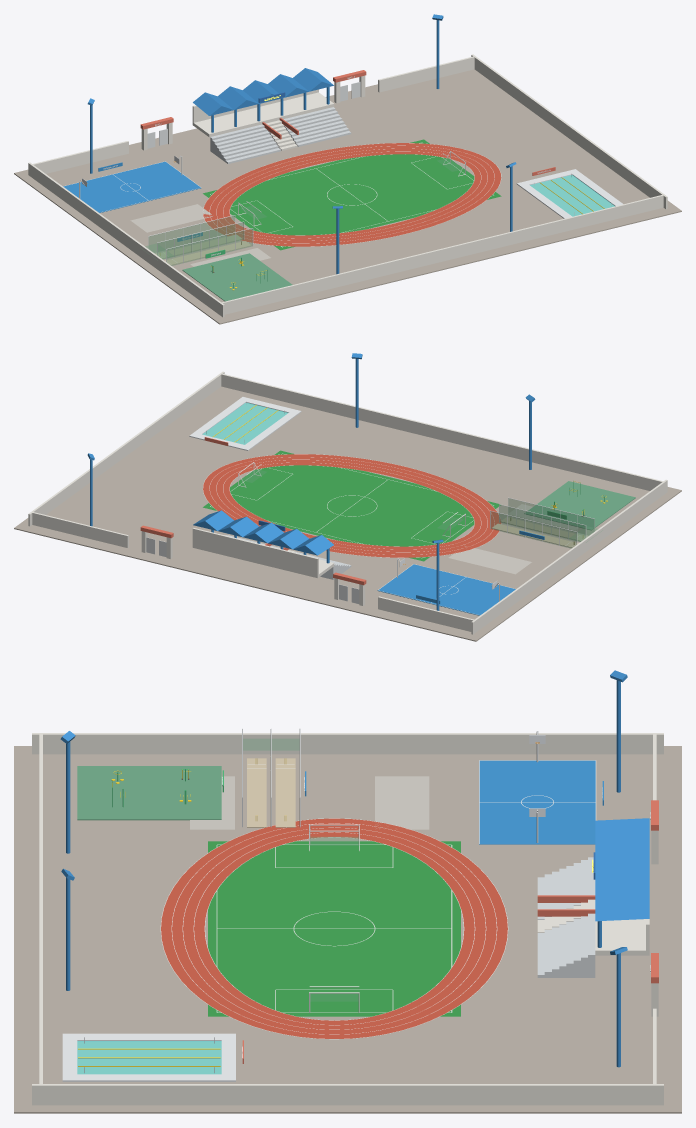
File: jawaharlal_stadium.glb
3 views of the same model, one above another, from view 1: azimuth 30°, elevation 25°; view 2: azimuth 150°, elevation 25°; view 3: azimuth 270°, elevation 25° (orthographic). The views are drawn at different scales.
Parts seen in each view (by area): view 1: Stadium_Base_Ground, Football_Pitch_Turf, Athletic_Running_Track, Perimeter_Wall_South, Basketball_Court_Floor, Gym_Concrete_Pad, Perimeter_Wall_West, Perimeter_Wall_East, Sawtooth_Canopy_Roof, Pavilion_Platform, Bleachers_Left, Pool_Water_Surface (+11 smaller); view 2: Stadium_Base_Ground, Football_Pitch_Turf, Athletic_Running_Track, Perimeter_Wall_South, Basketball_Court_Floor, Gym_Concrete_Pad, Perimeter_Wall_West, Perimeter_Wall_East, Sawtooth_Canopy_Roof, Pavilion_BackWall, Pool_Water_Surface, Plane.007 (+8 smaller); view 3: Stadium_Base_Ground, Football_Pitch_Turf, Athletic_Running_Track, Perimeter_Wall_East, Perimeter_Wall_West, Basketball_Court_Floor, Gym_Concrete_Pad, Sawtooth_Canopy_Roof, Pool_Water_Surface, Bleachers_Right, Walkway_Basketball_To_Cricket, Bleachers_Left (+13 smaller).
Part boxes in pixels (x1,y1,x2,y2): Stadium_Base_Ground: (14,69,681,324); Football_Pitch_Turf: (203,139,501,250); Athletic_Running_Track: (203,143,501,246); Perimeter_Wall_South: (221,194,664,314); Basketball_Court_Floor: (63,161,201,212); Gym_Concrete_Pad: (182,253,292,301); Perimeter_Wall_West: (28,162,224,317); Perimeter_Wall_East: (471,54,667,209); Sawtooth_Canopy_Roof: (193,68,333,115); Pavilion_Platform: (192,92,334,137); Bleachers_Left: (210,124,280,163); Pool_Water_Surface: (530,175,614,216); Stadium_Base_Ground: (14,386,681,641); Football_Pitch_Turf: (203,450,500,561); Athletic_Running_Track: (203,454,500,557); Perimeter_Wall_South: (221,373,663,490); Basketball_Court_Floor: (377,564,515,615); Gym_Concrete_Pad: (524,481,635,530); Perimeter_Wall_West: (471,479,667,634); Perimeter_Wall_East: (28,371,224,526); Sawtooth_Canopy_Roof: (193,510,333,555); Pavilion_BackWall: (192,528,318,575); Pool_Water_Surface: (203,403,287,444); Plane.007: (499,505,585,541); Stadium_Base_Ground: (14,746,681,1113); Football_Pitch_Turf: (208,841,460,1016); Athletic_Running_Track: (161,818,507,1038); Perimeter_Wall_East: (32,1084,663,1105); Perimeter_Wall_West: (32,733,663,754); Basketball_Court_Floor: (479,760,595,844); Gym_Concrete_Pad: (77,766,221,820); Sawtooth_Canopy_Roof: (595,818,649,921); Pool_Water_Surface: (77,1041,221,1073); Bleachers_Right: (537,913,595,977); Walkway_Basketball_To_Cricket: (375,776,429,829); Bleachers_Left: (537,857,595,919).
Size of the model in its own units: 96 by 14.7 by 74.
